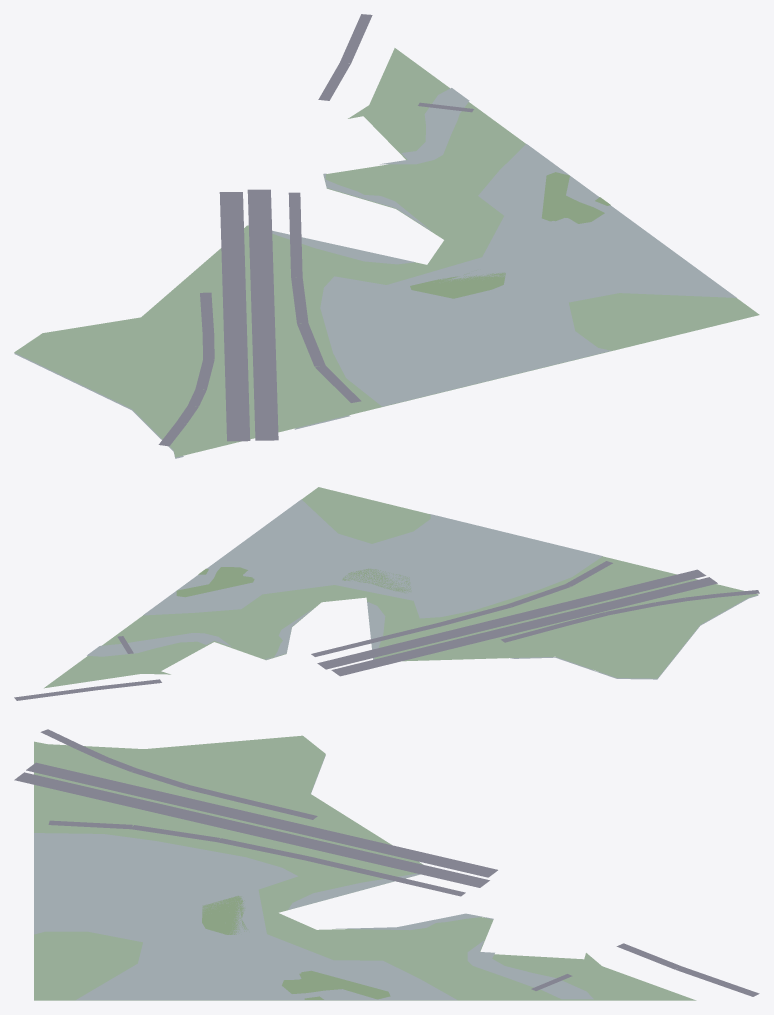
File: 134_80_mid.glb
The picture shows the model from 3 angles, top to bottom: view 1: azimuth 30°, elevation 25°; view 2: azimuth 150°, elevation 25°; view 3: azimuth 270°, elevation 25°; orthographic projection. The views are drawn at different scales.
Size of the model in its own units: 423 by 6.99 by 495.
